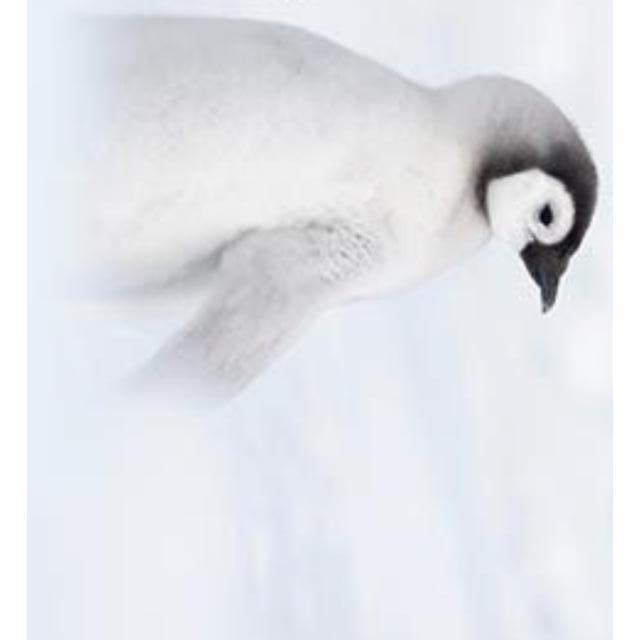penguin: (36, 17, 599, 418)
